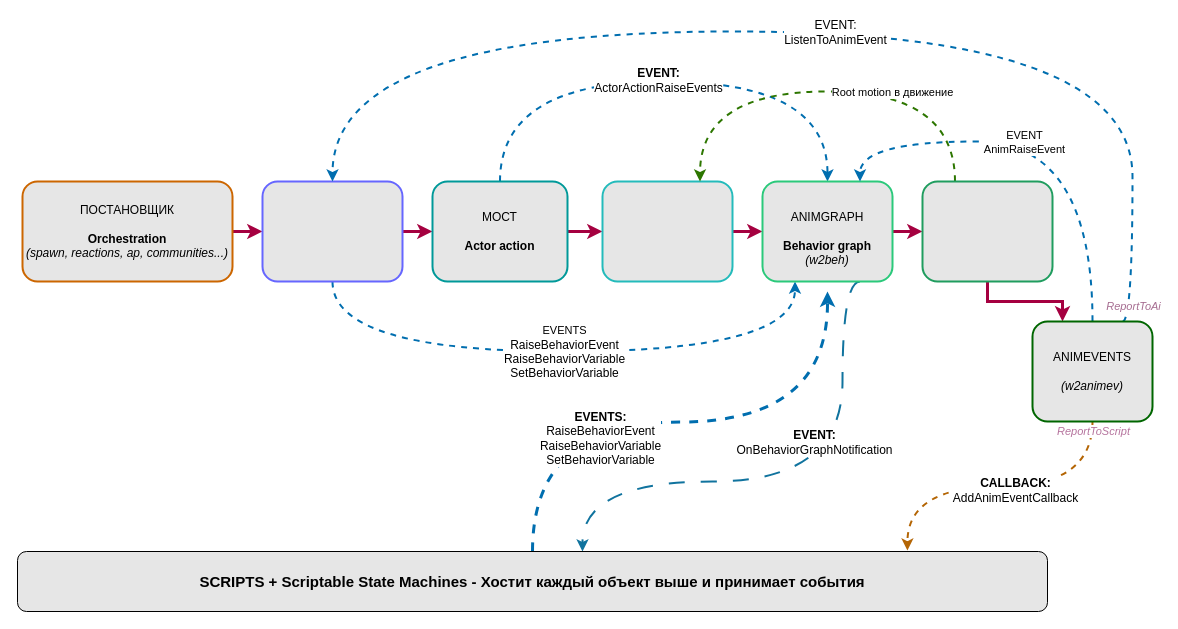
Some shapes in this 1178 by 629 pixel diagram are drawn without their labels. Here are the shapes that lost their labels. From the top down, the centre of each, then its label:
At [332,231]: "РЕШЕНИЕ Behavior tree (w2behtree)".
At [667,231]: "ДВИЖЕНИЕ Steering + path".
At [987,231]: "АНИМАЦИЯ (entity / w2anims)".
